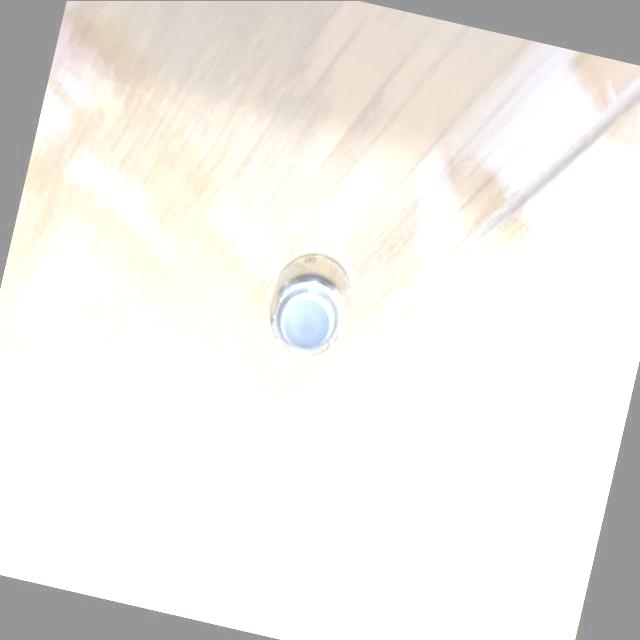COIN: (260, 247, 356, 365)
